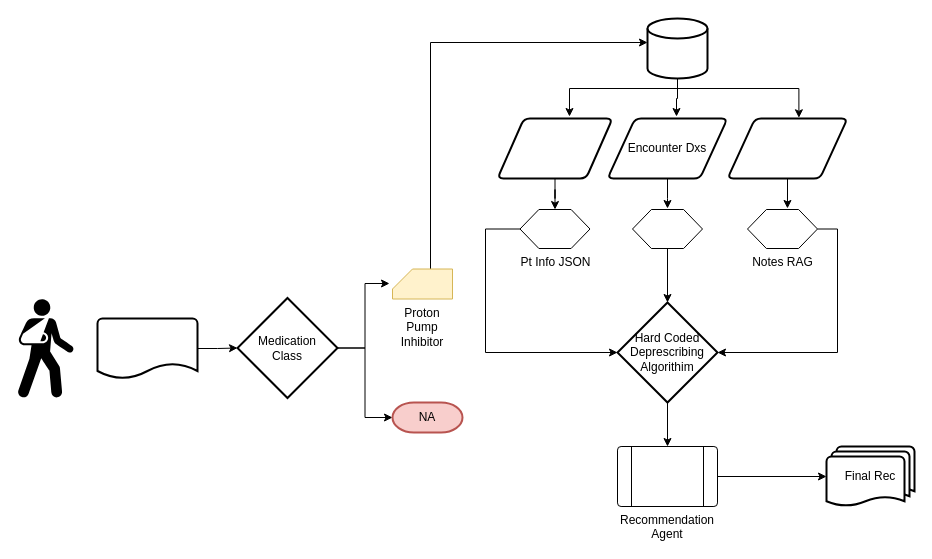
Some shapes in this 932 by 559 pixel diagram are drawn without their labels. The shapes that lost their labels are listed below. From the top down, each one's centre as x and y in pixels, then its label:
At (x=677, y=48): "EMR".
At (x=554, y=148): "Patient Info".
At (x=787, y=148): "Notes".
At (x=667, y=228): "Dx JSON".
At (x=147, y=348): "Medication List".
